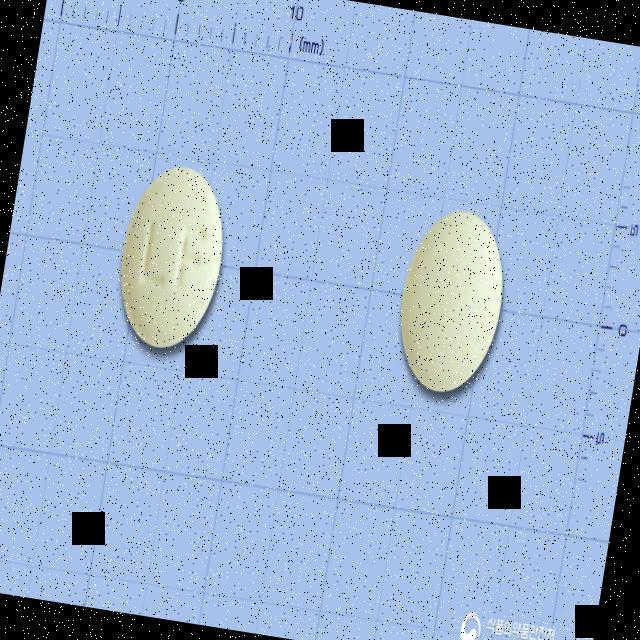Levofloxacin Tab- Dongsung: (108, 157, 236, 356)
